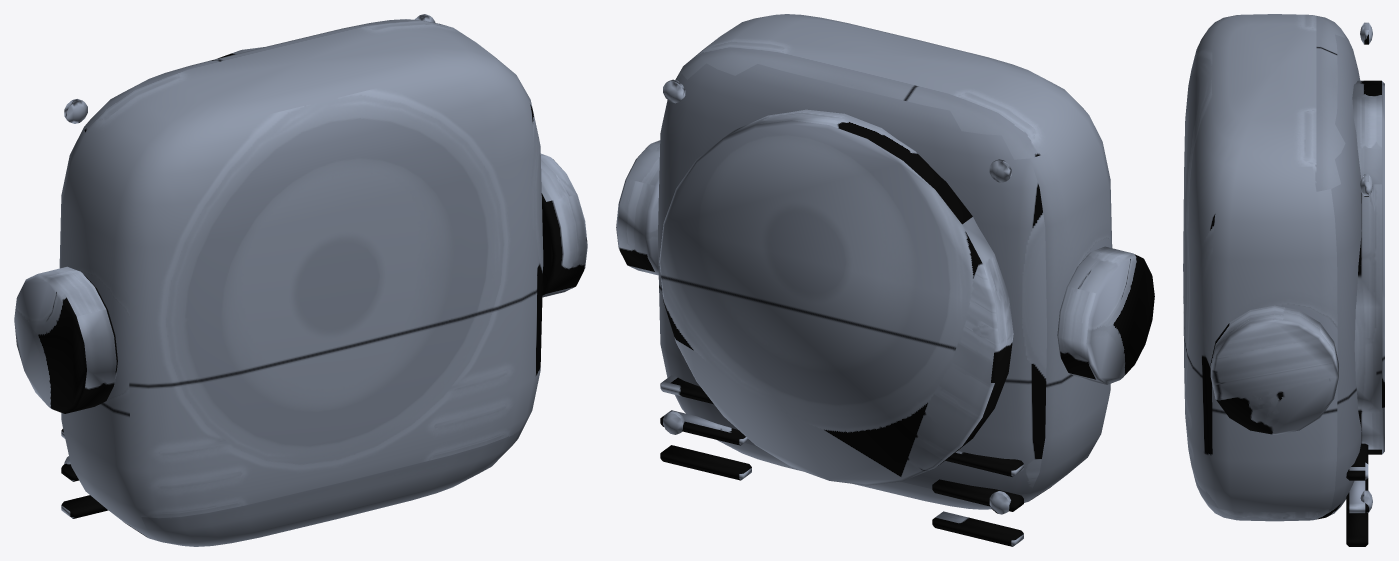
The model's file is Estela_Mochila.fbx.
The picture shows the model from 3 angles, left to right: view 1: azimuth 30°, elevation 25°; view 2: azimuth 150°, elevation 25°; view 3: azimuth 270°, elevation 25°; orthographic projection. The views are drawn at different scales.
Visible parts, largest first — view 1: Estela_Mochila; view 2: Estela_Mochila; view 3: Estela_Mochila.
Part boxes in pixels (x1=…): Estela_Mochila: x1=14, y1=14, x2=587, y2=546; Estela_Mochila: x1=616, y1=14, x2=1154, y2=546; Estela_Mochila: x1=1183, y1=14, x2=1384, y2=546.
Bounding box in the file's own units: 1.02 × 0.8498 × 0.3929.
